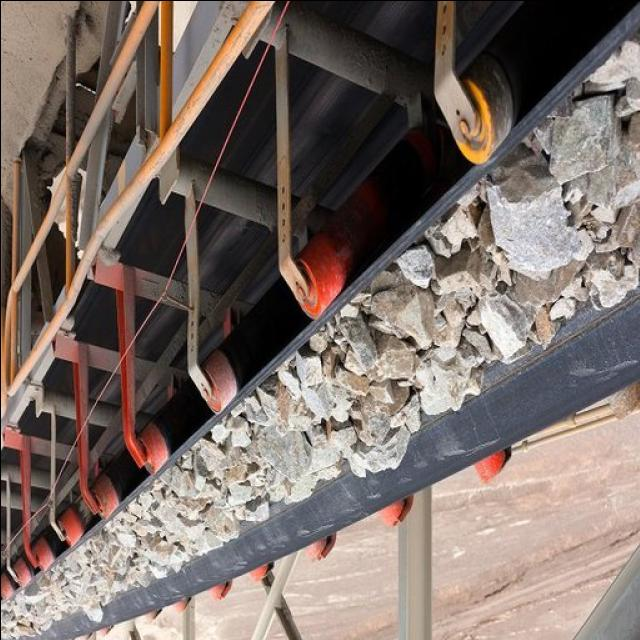conveyor: (0, 2, 640, 640)
